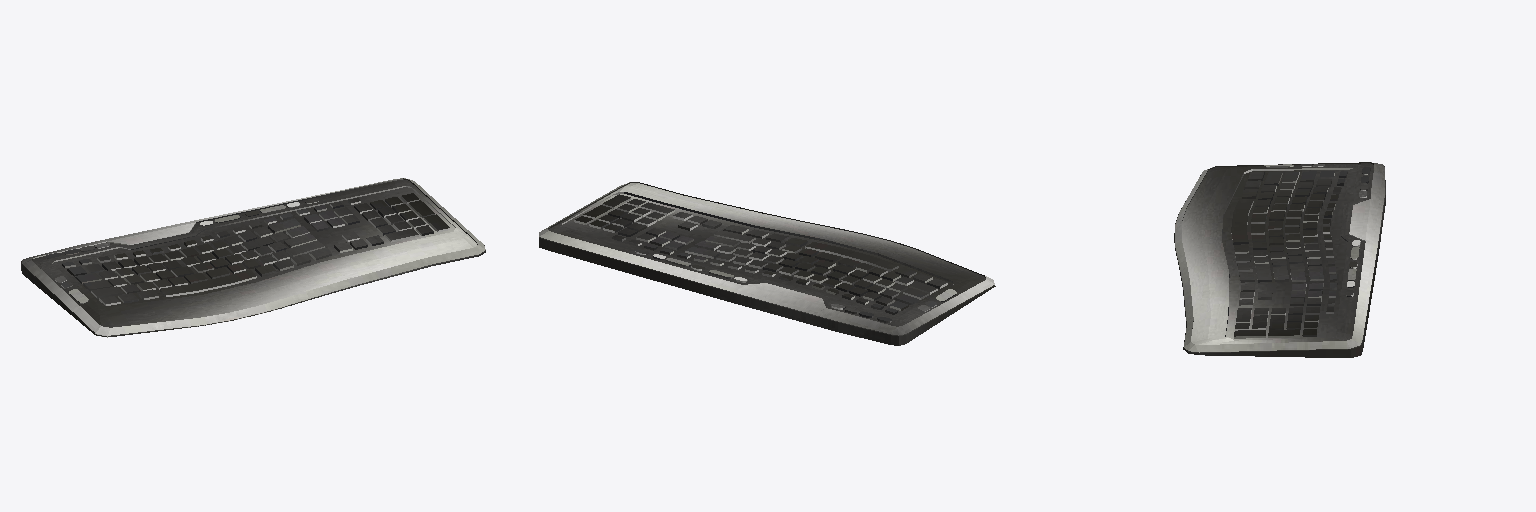
3 views of the same model, side by side, from view 1: azimuth 30°, elevation 25°; view 2: azimuth 150°, elevation 25°; view 3: azimuth 270°, elevation 25° (orthographic).
Visible parts, largest first — view 1: 10105_Computer_Keyboard_v1_L3; view 2: 10105_Computer_Keyboard_v1_L3; view 3: 10105_Computer_Keyboard_v1_L3.
Boxes of the visible parts, box(x1,y1,x2,y2) form: 10105_Computer_Keyboard_v1_L3: box(21, 178, 485, 337); 10105_Computer_Keyboard_v1_L3: box(539, 182, 995, 345); 10105_Computer_Keyboard_v1_L3: box(1174, 162, 1385, 357).
Size of the model in its own units: 2.56 by 0.0988 by 1.21.
1 materials, 1 textured.